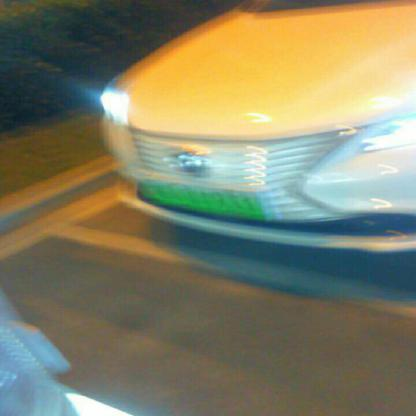lp: (142, 180, 266, 218)
